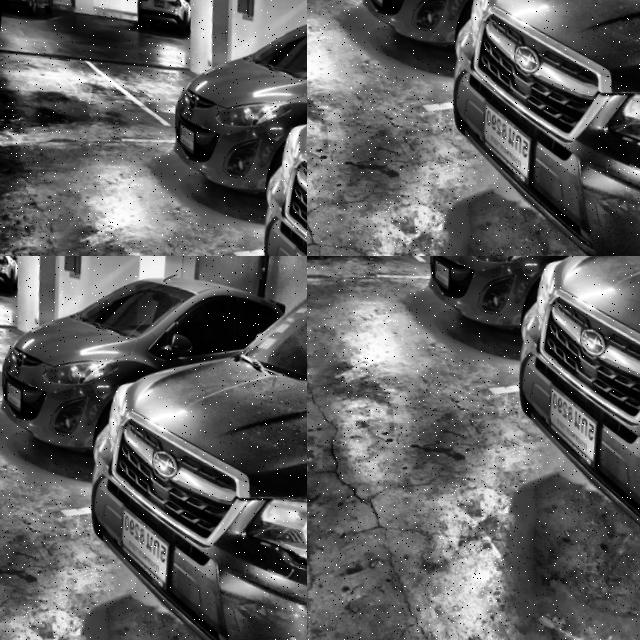license-plate: (532, 376, 602, 466), (425, 256, 450, 287)
